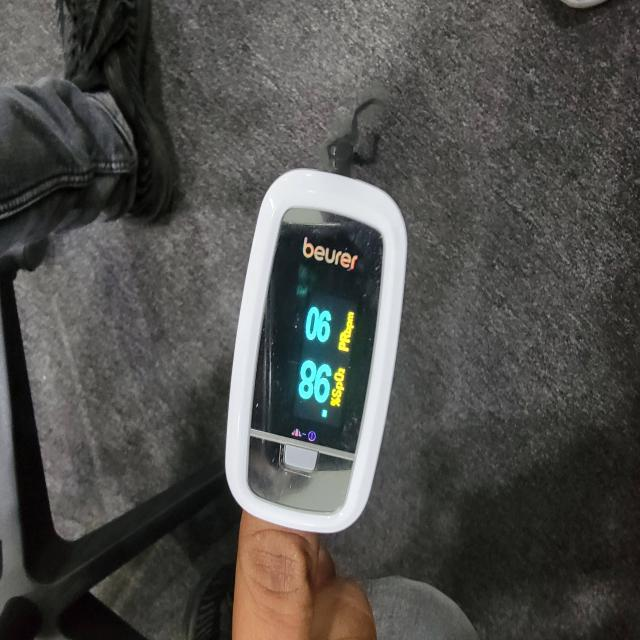spo2: (224, 169, 407, 538)
